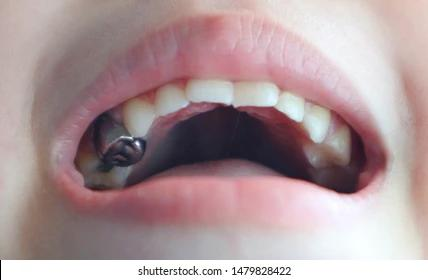crown: (84, 111, 152, 168)
